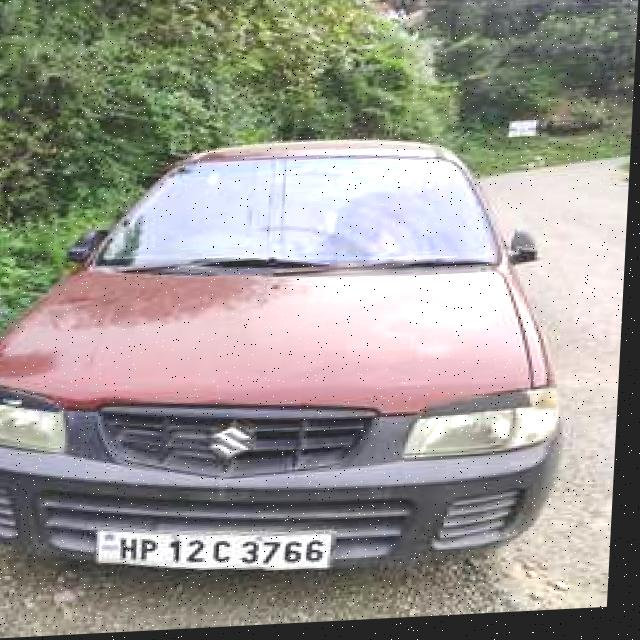plate: (98, 519, 342, 584)
